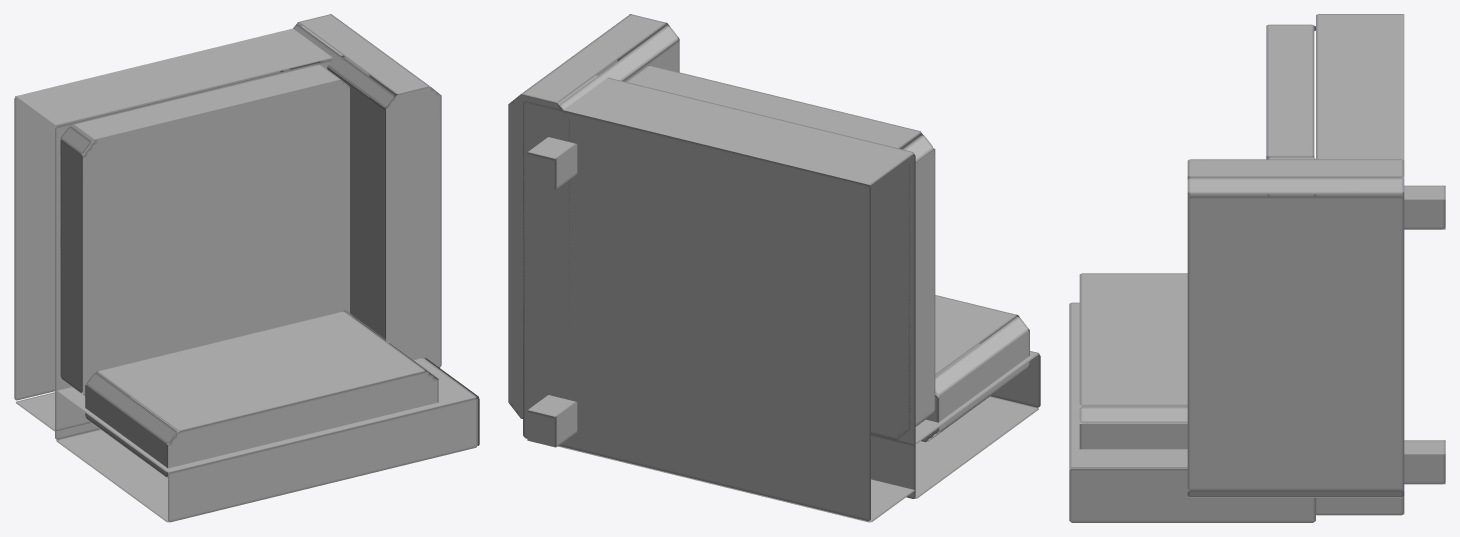
File: pz_sofa_seating_indoor_02_brown_lazy_1_0.obj
3 views of the same model, side by side, from view 1: azimuth 30°, elevation 25°; view 2: azimuth 150°, elevation 25°; view 3: azimuth 270°, elevation 25° (orthographic). The views are drawn at different scales.
Bounding box in the file's own units: 1 × 0.93 × 0.91.
1 material, 1 textured.
